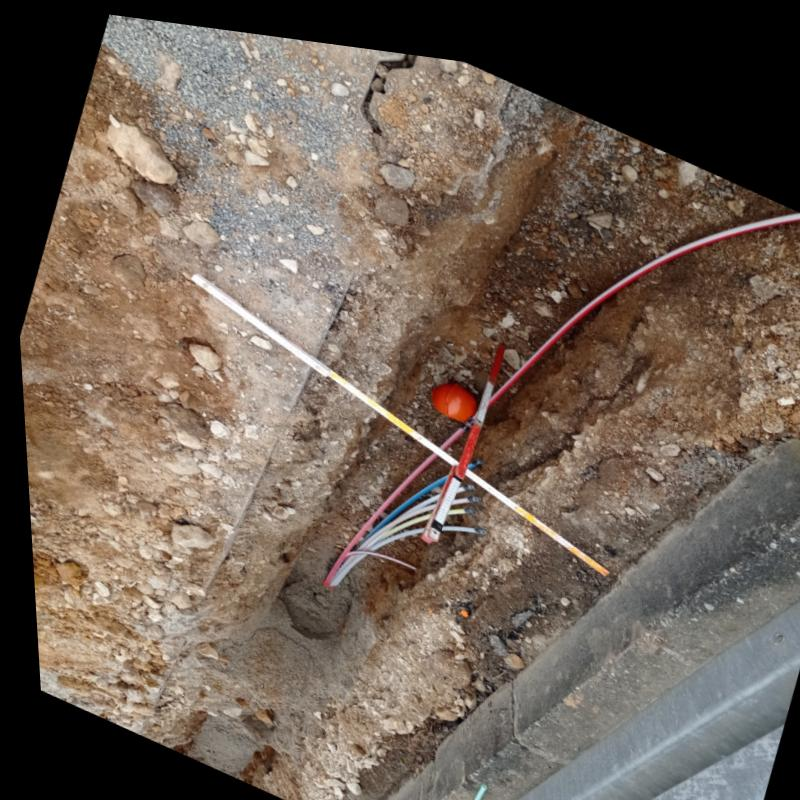Kugelmarker: (429, 370, 472, 409)
